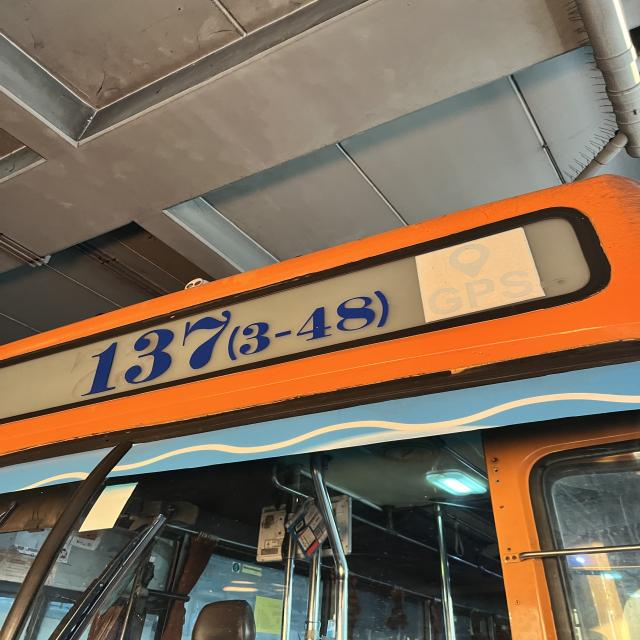BMTA-bus: (0, 176, 640, 640)
Bus-Line-Number: (70, 264, 393, 404)
